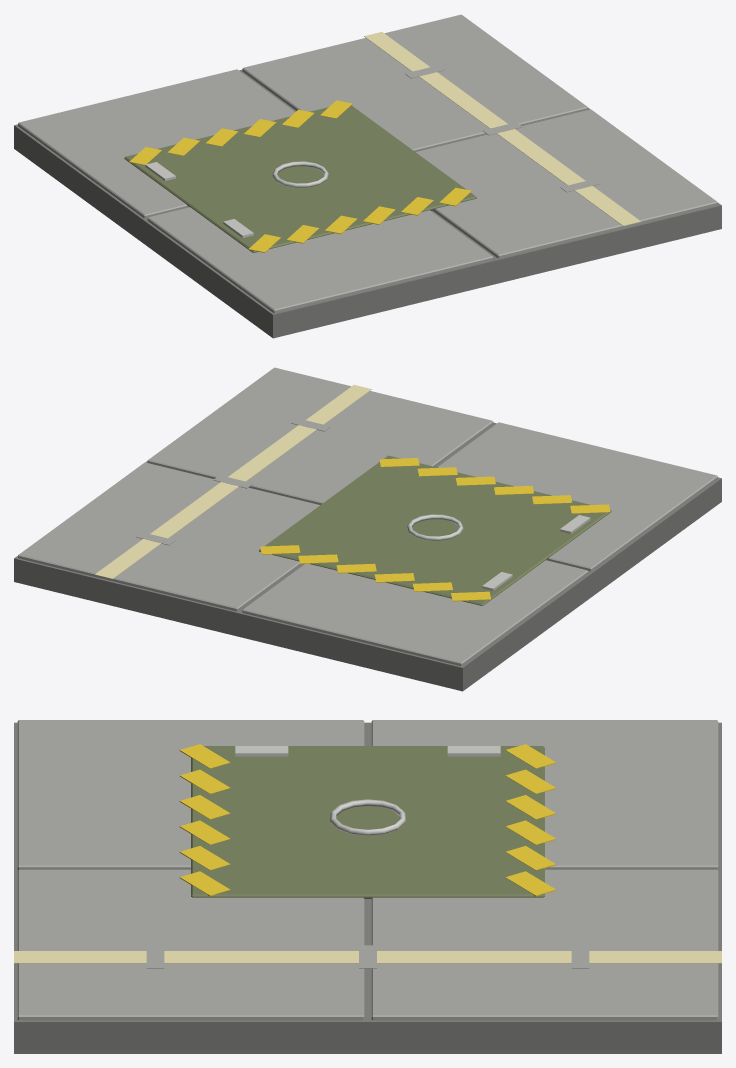
Rendered from floor_bk_hatch.glb.
3 views of the same model, one above another, from view 1: azimuth 30°, elevation 25°; view 2: azimuth 150°, elevation 25°; view 3: azimuth 270°, elevation 25° (orthographic). The views are drawn at different scales.
Parts seen in each view (by area): view 1: floor_bk_hatch; view 2: floor_bk_hatch; view 3: floor_bk_hatch.
Boxes of the visible parts, bbox=[...] form: floor_bk_hatch: bbox=[14, 14, 721, 338]; floor_bk_hatch: bbox=[14, 367, 721, 691]; floor_bk_hatch: bbox=[14, 720, 721, 1053].
Size of the model in its own units: 4 by 0.279 by 4.
